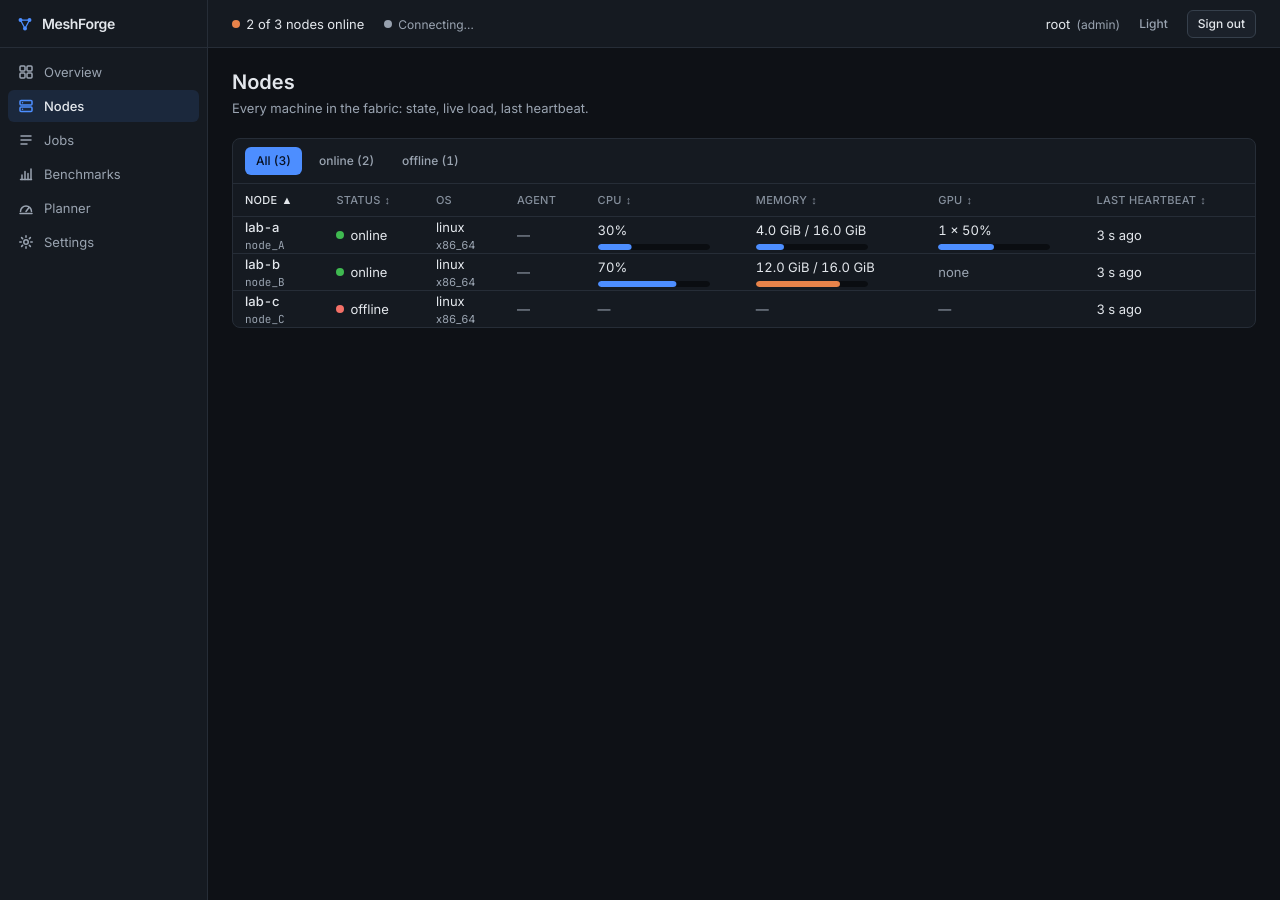
Nodes list › one row per API node, sortable and filterable, names are links
Click the button "CPU ↕": (615, 200) [598, 192, 632, 208]
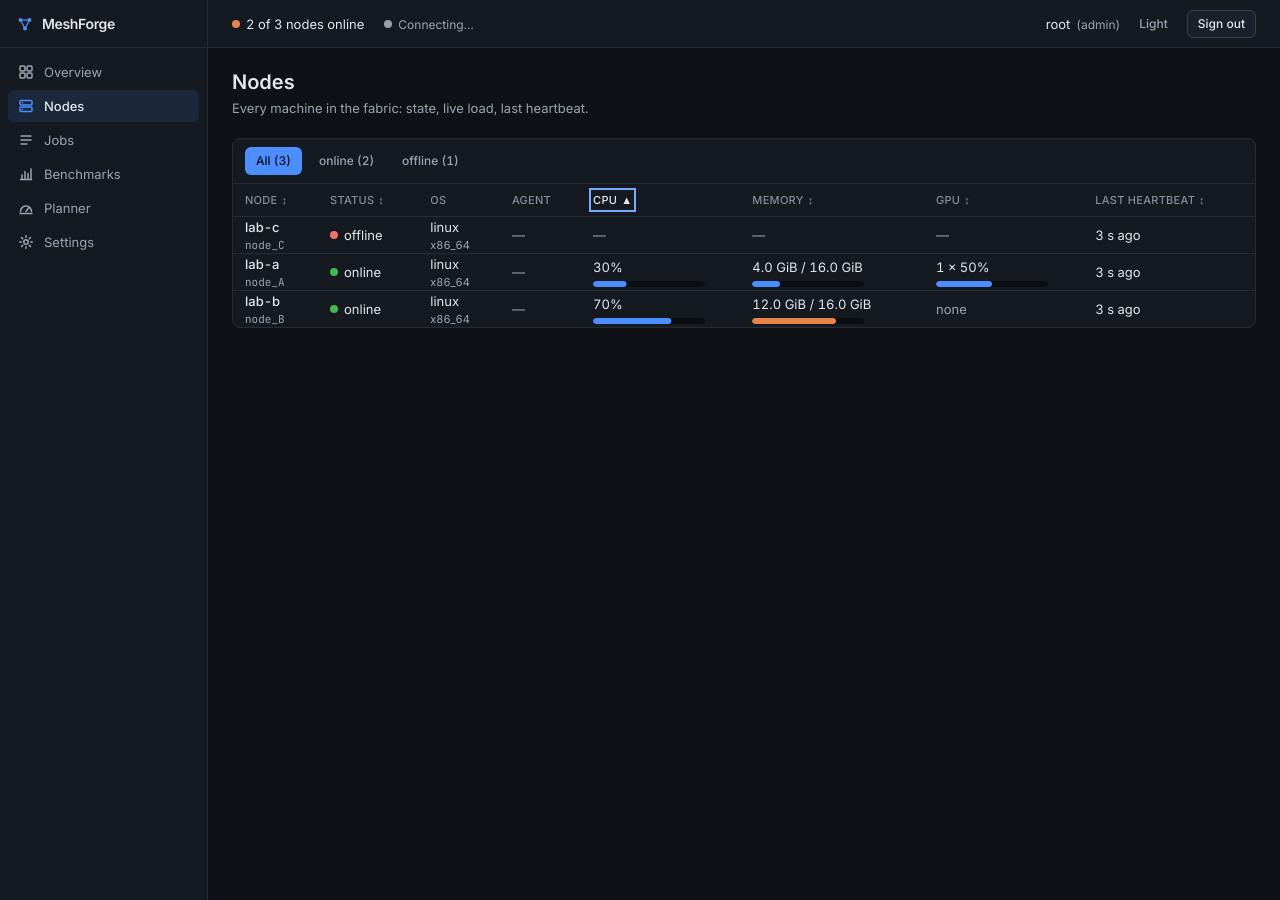
Check: the column heading "CPU ▲" has attribute aria-sort="ascending", box [581, 184, 740, 216]
Click the button "CPU ▲": (613, 200) [593, 192, 632, 208]
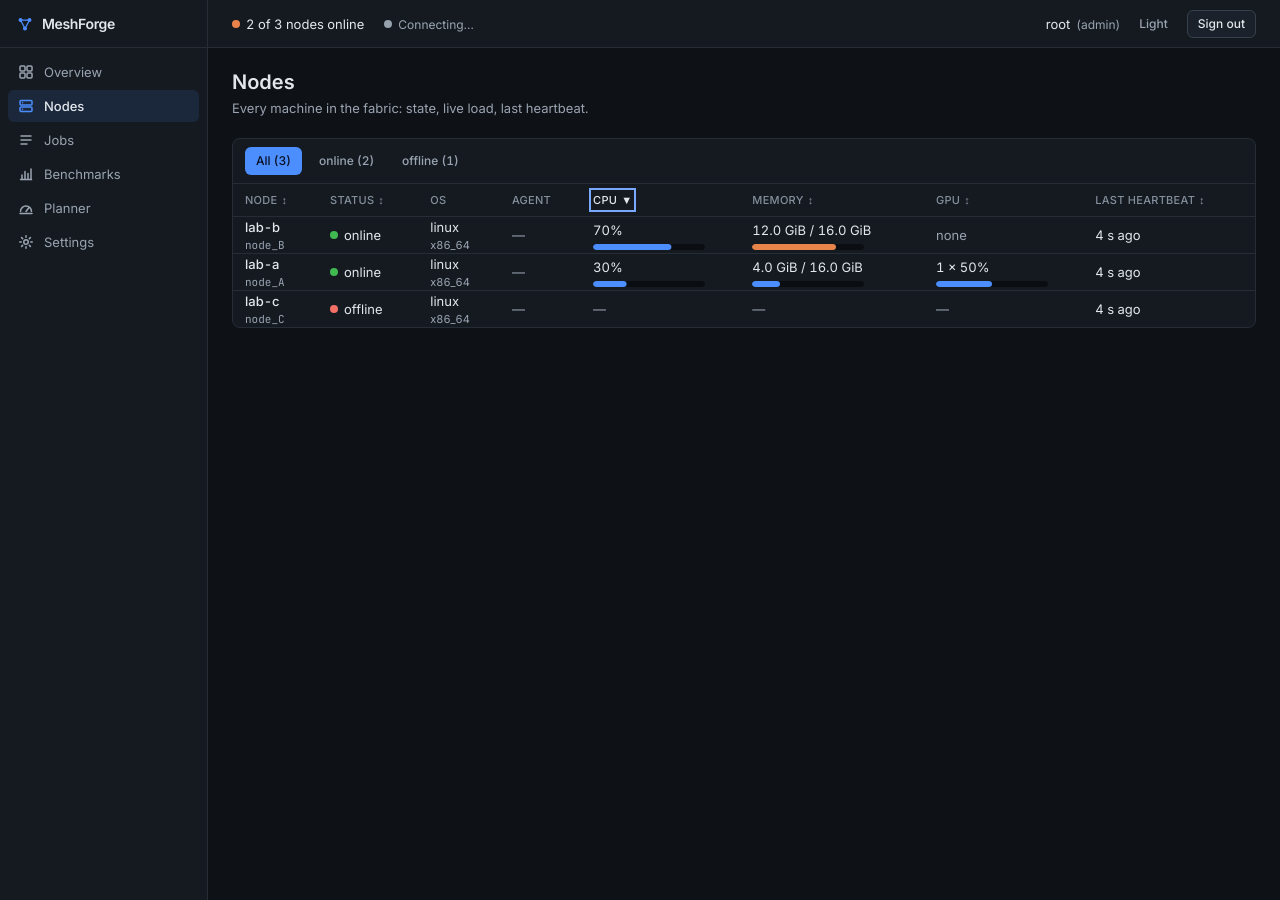
Check: the column heading "CPU ▼" has attribute aria-sort="descending", box [581, 184, 740, 216]
Note: Filter by status (counts are the API's).
Click the button "offline (1)": (430, 161) [391, 147, 470, 175]
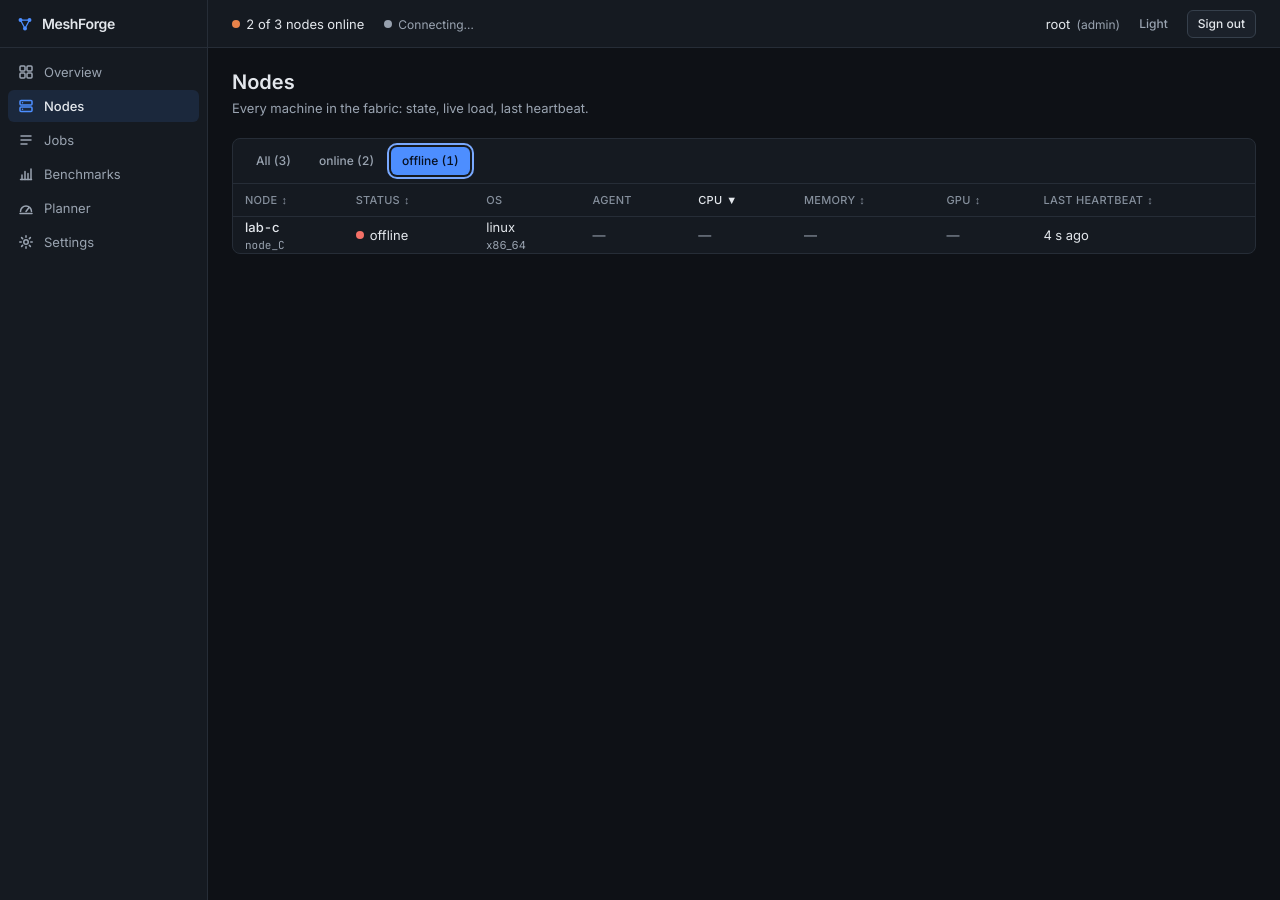
Check: the button "offline (1)" is pressed, box [391, 147, 470, 175]
Click the button "All (3)": (273, 161) [245, 147, 302, 175]
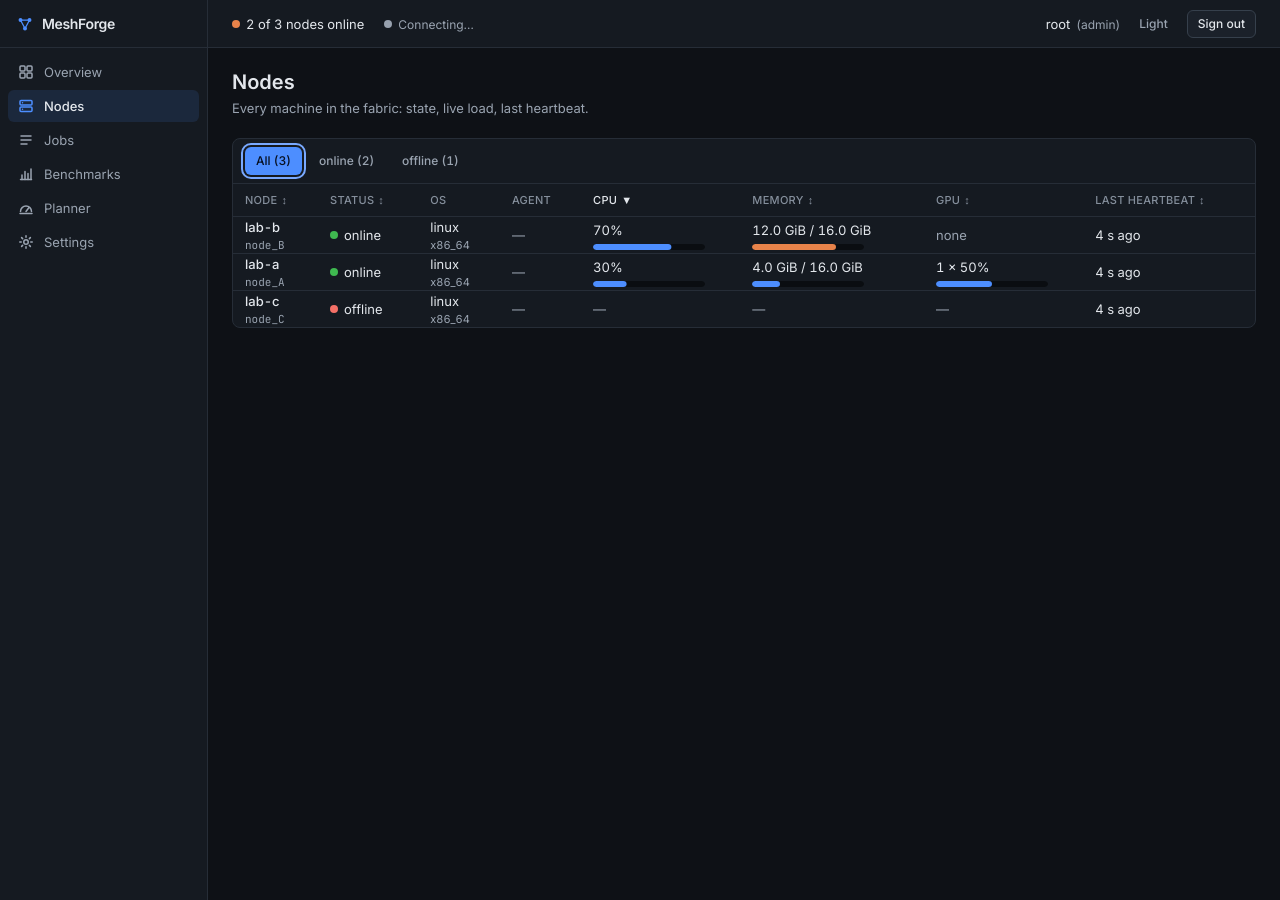
Check: the text "lab-c" shows "offline", box [344, 301, 383, 317]
Check: the text "lab-b" shows "70%", box [593, 222, 623, 238]
Check: the text "lab-b" shows "12.0 GiB / 16.0 GiB", box [752, 222, 871, 238]
